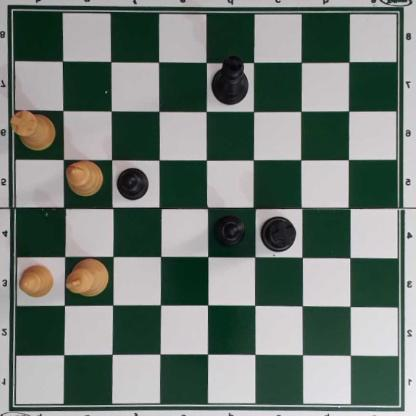black-king: (212, 53, 249, 105)
black-pawn: (115, 166, 149, 201), (212, 214, 247, 248)
black-rook: (259, 216, 297, 253)
white-bishop: (65, 159, 105, 198)
white-king: (66, 259, 111, 297)
white-pawn: (19, 264, 55, 297)
white-rook: (10, 110, 56, 151)
